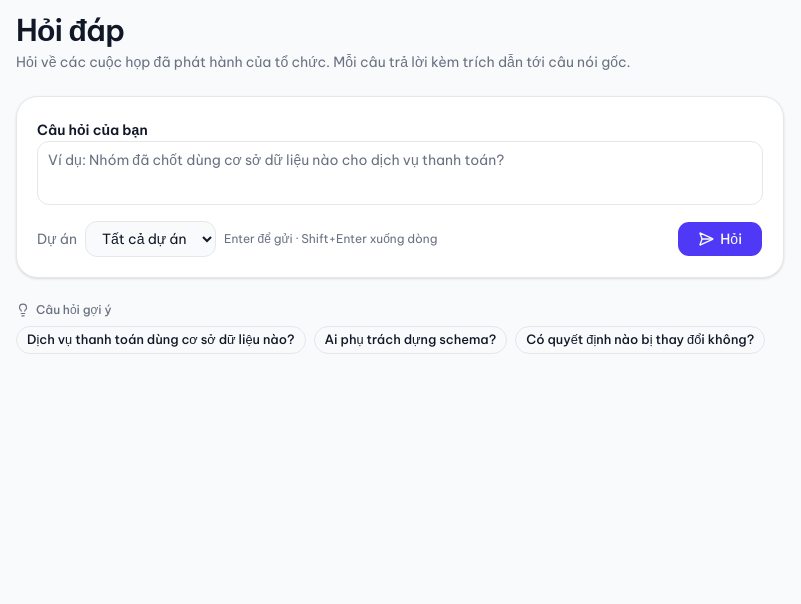
Test: sample question posts without project and shows answer + sources
Click the button "Ai phụ trách dựng schema?". click: (410, 340)
box: [314,326,507,354]
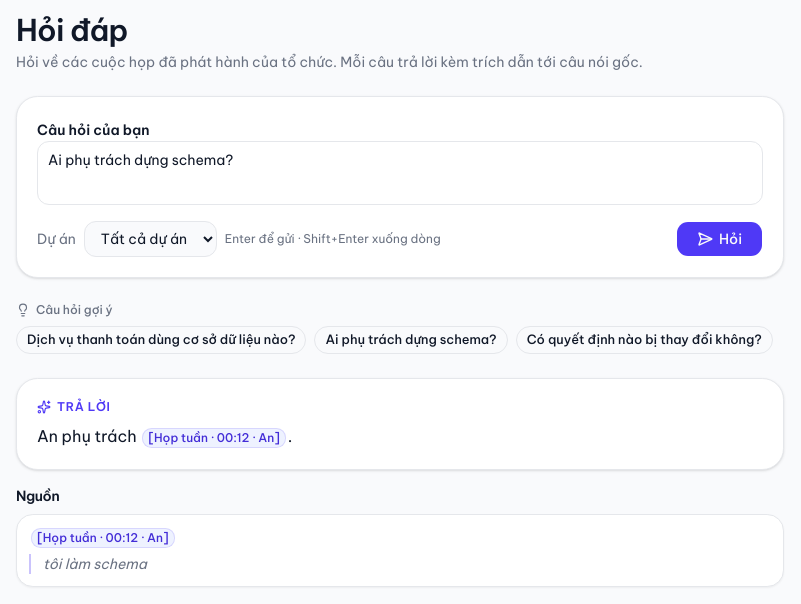
Expected: the heading "Nguồn" is shown, [16,487,59,505]
Expected: the text "tôi làm schema" is shown, [29,554,771,574]
